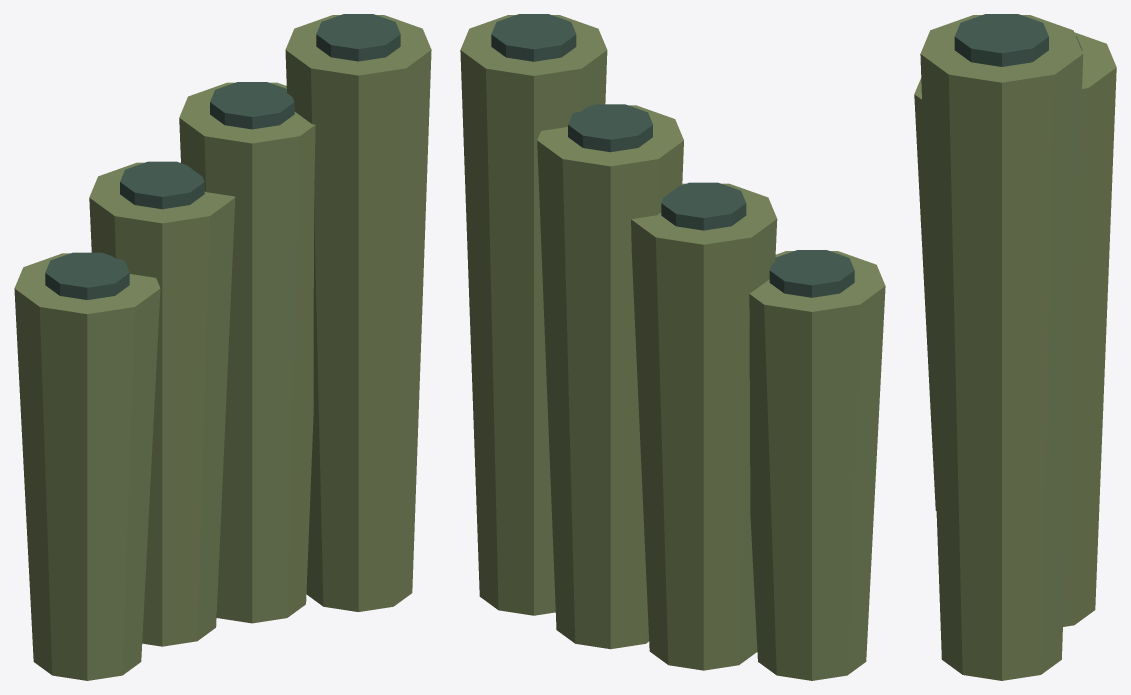
File: map-boundaries-v5__tide_07.glb
3 views of the same model, side by side, from view 1: azimuth 30°, elevation 25°; view 2: azimuth 150°, elevation 25°; view 3: azimuth 270°, elevation 25° (orthographic). The views are drawn at different scales.
Parts seen in each view (by area): view 1: tide_07; view 2: tide_07; view 3: tide_07.
Part boxes in pixels (x1=…): tide_07: x1=14, y1=14, x2=431, y2=680; tide_07: x1=460, y1=14, x2=885, y2=680; tide_07: x1=914, y1=14, x2=1116, y2=680.
Bounding box in the file's own units: 1.18 × 1.58 × 0.4652.
